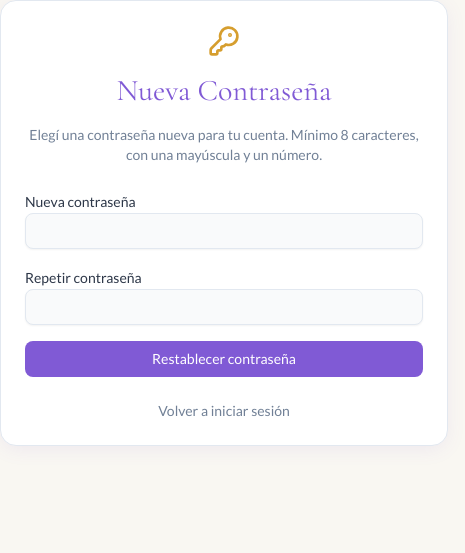
Test: ResetPasswordForm › Envío › should show a generic error on server failure
Type "NuevaPass123" into the password field labelled "Nueva contraseña" at (224, 231), box [25, 213, 423, 249]
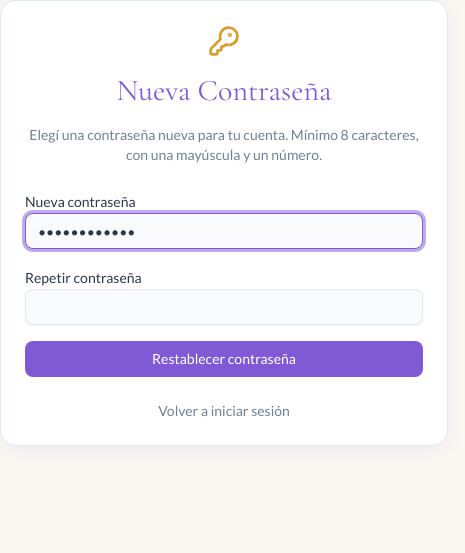
Type "NuevaPass123" into the password field labelled "Repetir contraseña" at (224, 307), box [25, 289, 423, 325]
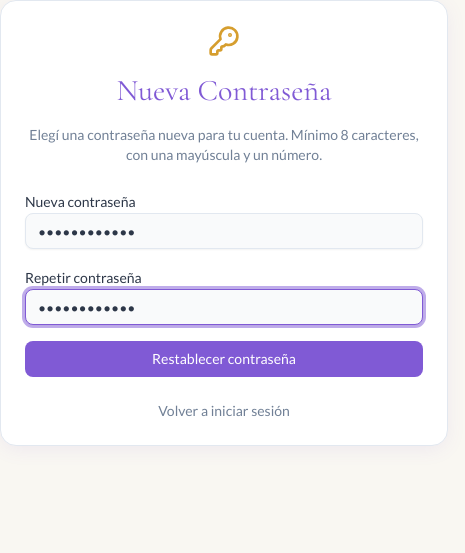
Click the button "Restablecer contraseña" at (224, 359), box [25, 341, 423, 377]
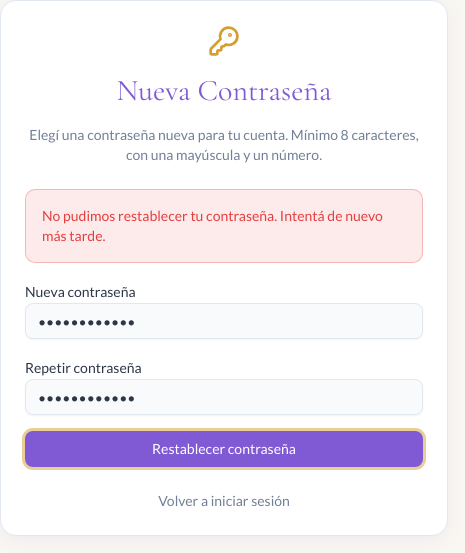
Now the message shows "Intentá de nuevo más tarde", box [42, 207, 383, 244]
